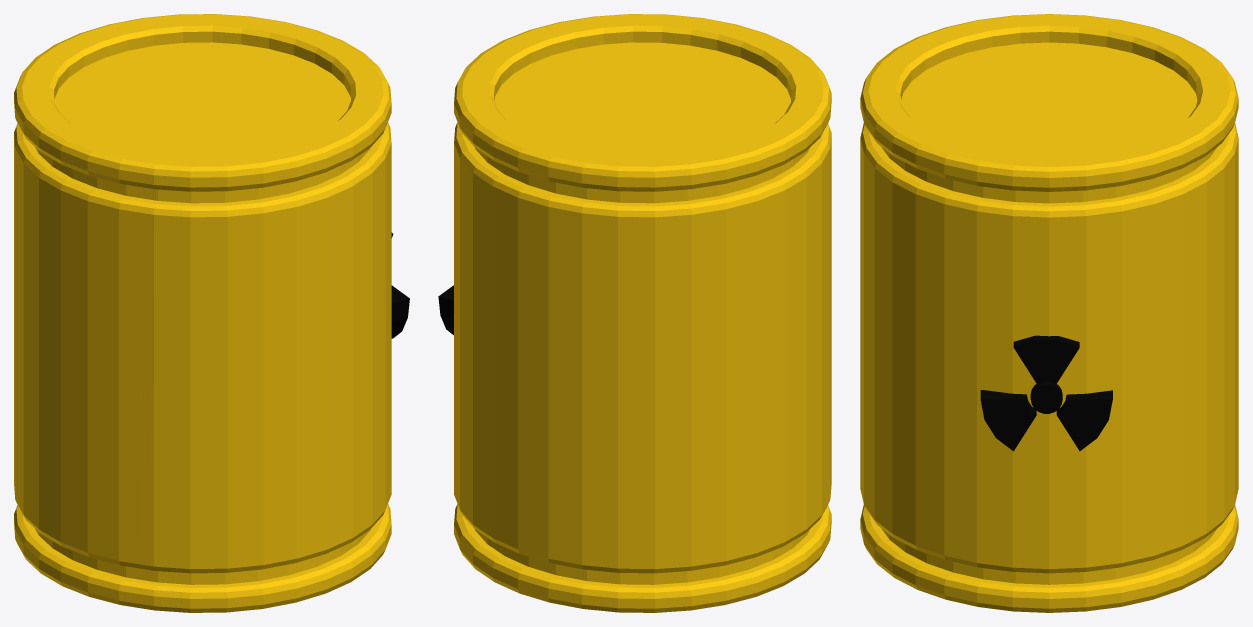
The model's file is Container.glb.
3 renders of one model, left to right at view 1: azimuth 30°, elevation 25°; view 2: azimuth 150°, elevation 25°; view 3: azimuth 270°, elevation 25°, orthographic.
Visible parts, largest first — view 1: Container; view 2: Container; view 3: Container.
Part boxes in pixels (bbox=[...]): Container: bbox=[14, 14, 409, 612]; Container: bbox=[438, 14, 831, 612]; Container: bbox=[860, 14, 1238, 612].
Size of the model in its own units: 2.05 by 2.6 by 2.
Materials: 1 (1 with a texture image).
